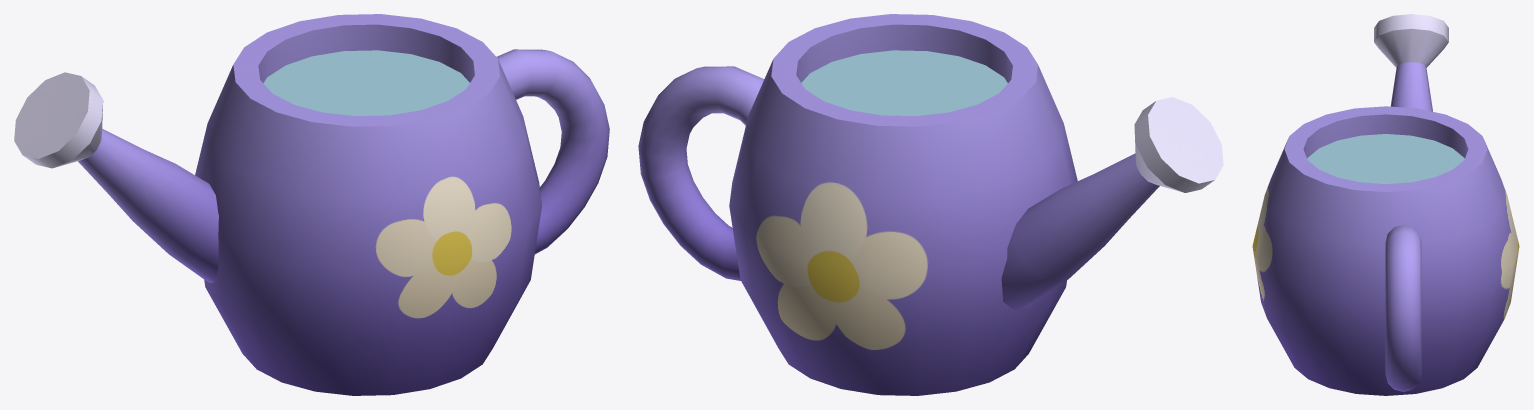
File: Regadera.fbx
3 renders of one model, left to right at view 1: azimuth 30°, elevation 25°; view 2: azimuth 150°, elevation 25°; view 3: azimuth 270°, elevation 25°, orthographic. The views are drawn at different scales.
Parts seen in each view (by area): view 1: Cuerpo, Caño, Manija, Agua; view 2: Cuerpo, Caño, Manija, Agua; view 3: Cuerpo, Manija, Agua, Caño.
Part boxes in pixels (left/top/right/bottom): Cuerpo: left=195, top=14, right=541, bottom=395; Caño: left=14, top=72, right=218, bottom=282; Manija: left=496, top=49, right=609, bottom=254; Agua: left=263, top=50, right=469, bottom=115; Cuerpo: left=729, top=14, right=1077, bottom=395; Caño: left=1001, top=97, right=1223, bottom=309; Manija: left=638, top=66, right=764, bottom=280; Agua: left=801, top=50, right=1007, bottom=115; Cuerpo: left=1252, top=106, right=1519, bottom=395; Manija: left=1385, top=225, right=1421, bottom=391; Agua: left=1307, top=134, right=1464, bottom=183; Caño: left=1374, top=14, right=1448, bottom=111.
Bounding box in the file's own units: 3.81 × 2.01 × 2.01.
